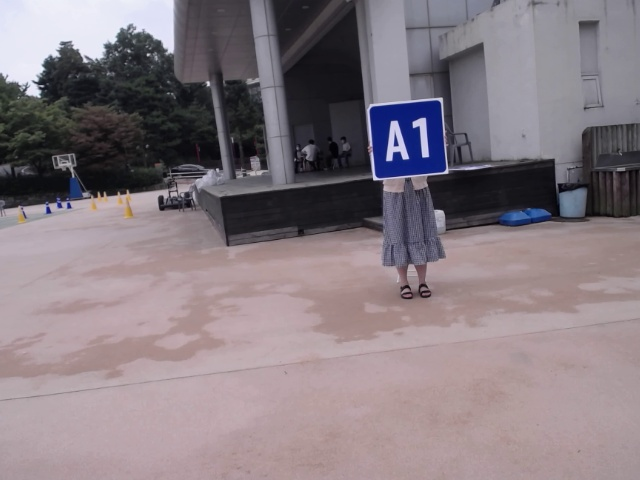delivery_a1: (366, 99, 449, 181)
